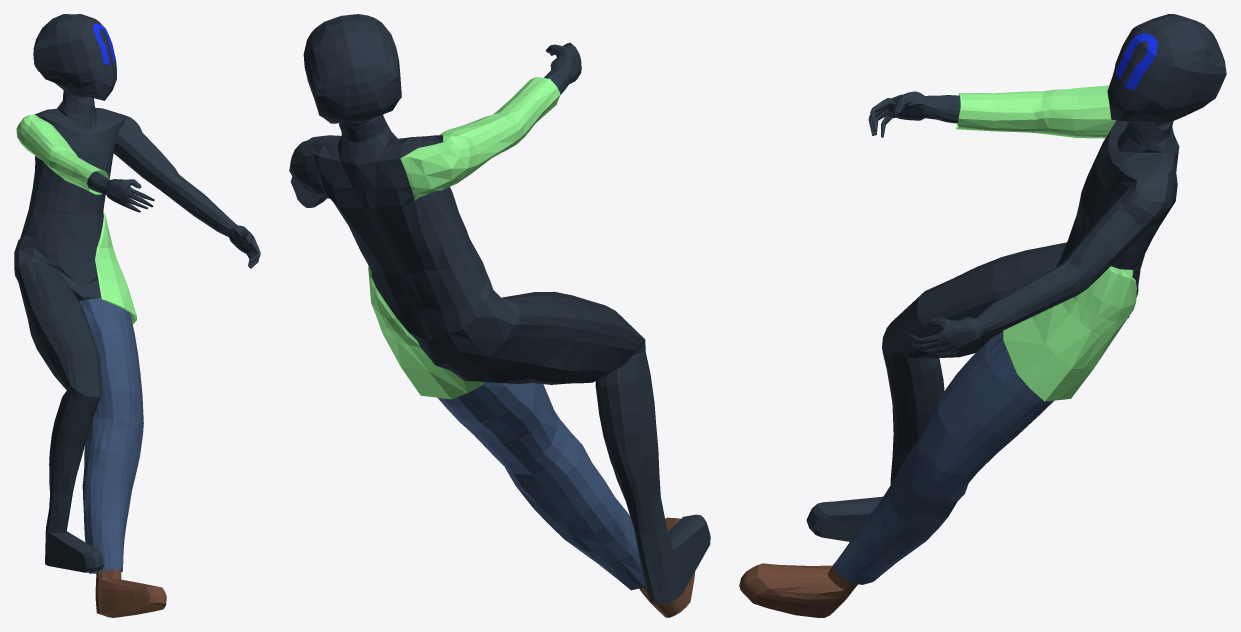
The model's file is Mar_Die_000008.obj.
The picture shows the model from 3 angles, left to right: view 1: azimuth 30°, elevation 25°; view 2: azimuth 150°, elevation 25°; view 3: azimuth 270°, elevation 25°; orthographic projection. The views are drawn at different scales.
Parts seen in each view (by area): view 1: Cube.000_Cube.001; view 2: Cube.000_Cube.001; view 3: Cube.000_Cube.001.
Part boxes in pixels (x1,y1,x2,y2): Cube.000_Cube.001: (14, 14, 260, 617); Cube.000_Cube.001: (289, 14, 710, 617); Cube.000_Cube.001: (739, 14, 1226, 617).
Size of the model in its own units: 1.66 by 3.42 by 2.29.
